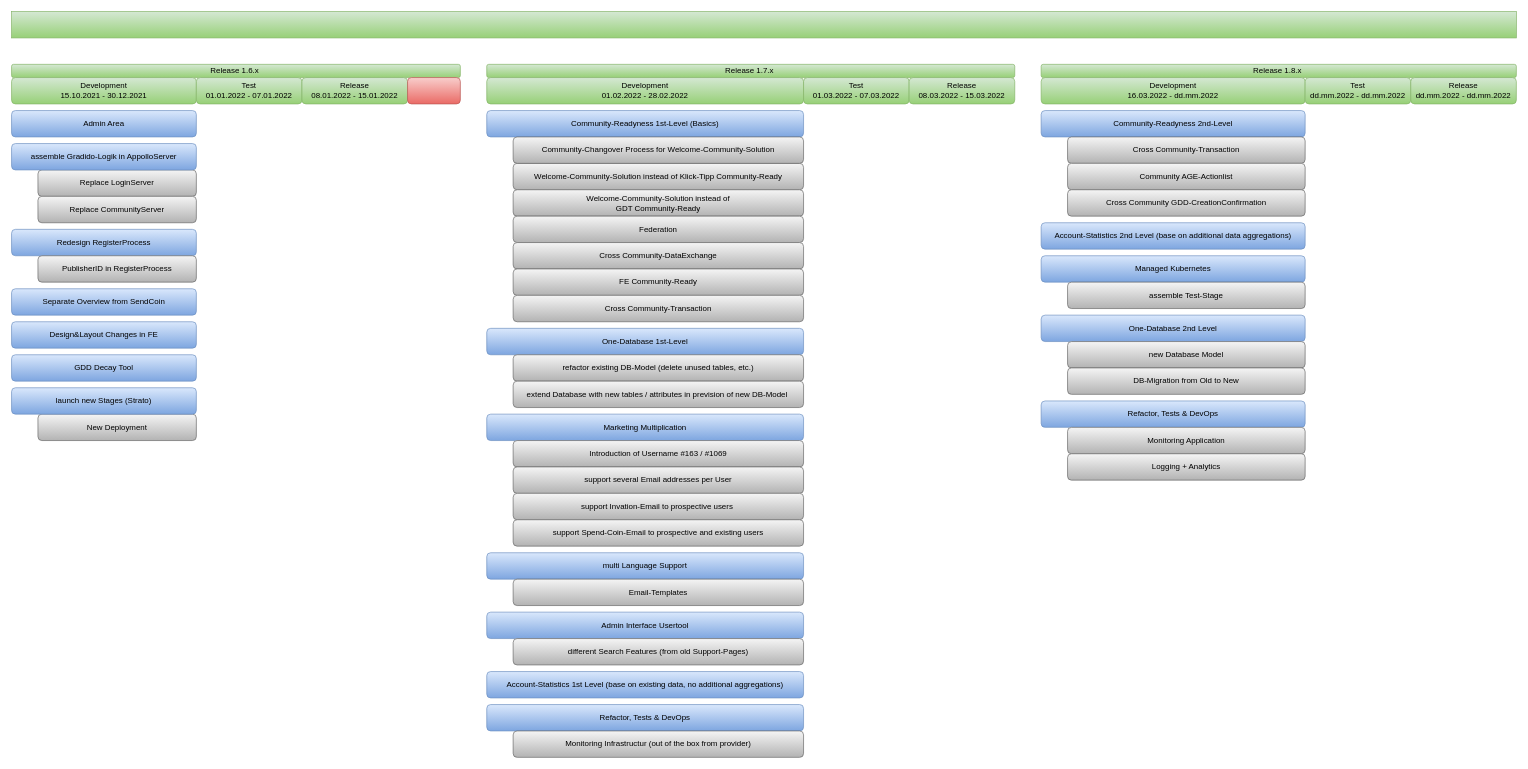
The diagram is 1528 pixels wide and 769 high, and some of its shapes have lost their labels. The shapes that lost their labels are listed below. From the top down, each one's centre as x and y in pixels, then its label:
At (763,24): "Gradido-Roadmap - 28.12.2021".
At (433,90): "Deadline 01.02.2022".
